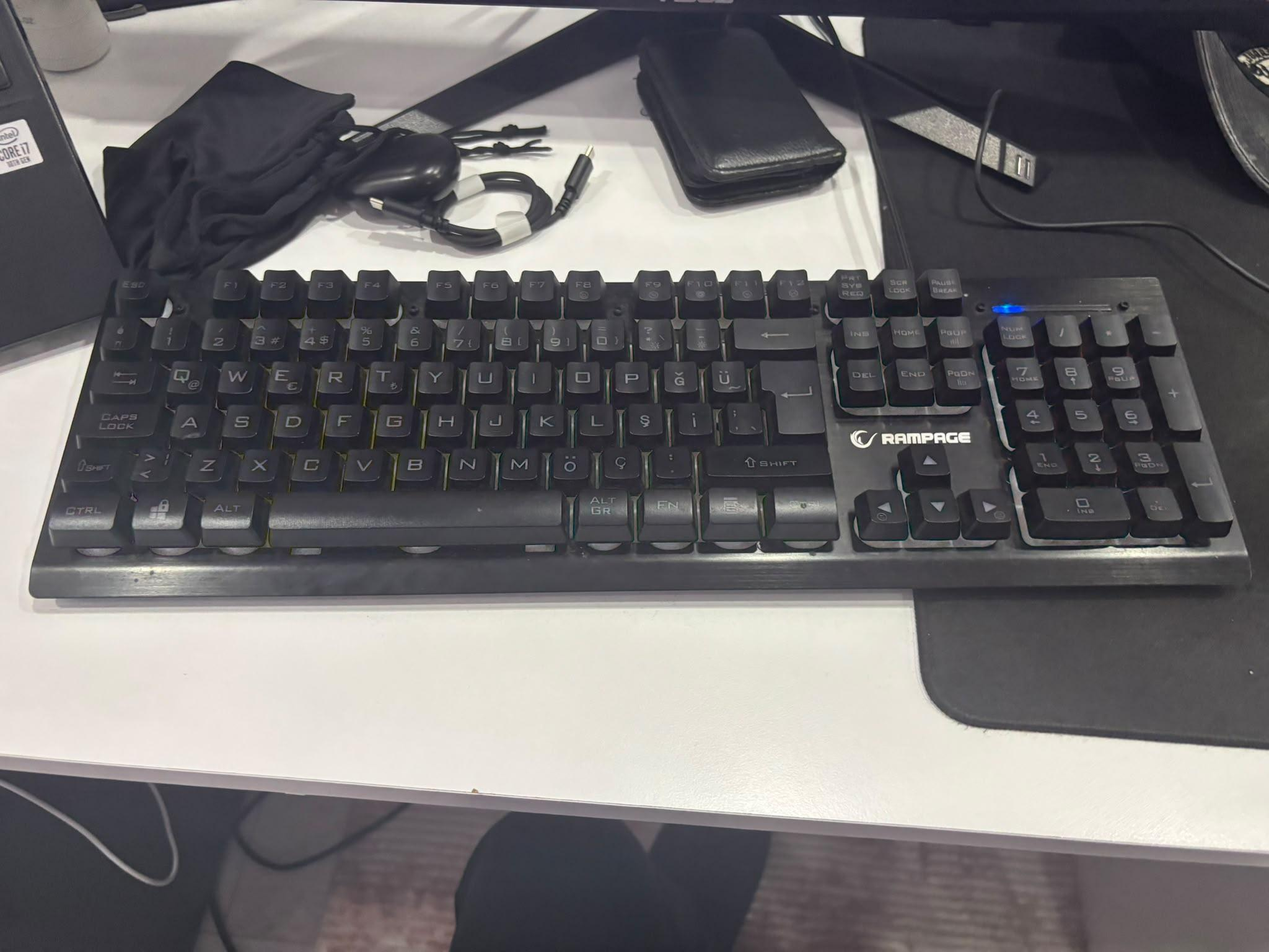cable: (973, 87, 1269, 296), (366, 144, 595, 252), (0, 775, 180, 890)
keyboard: (29, 267, 1255, 601)
mouse: (332, 131, 461, 208)
